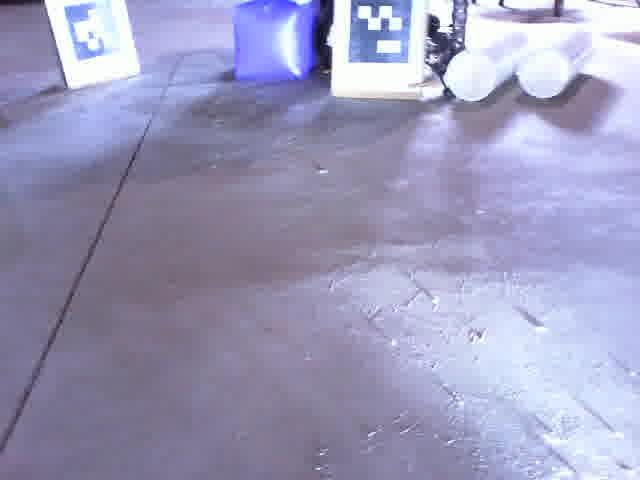coral: (447, 31, 532, 103), (517, 26, 596, 100)
